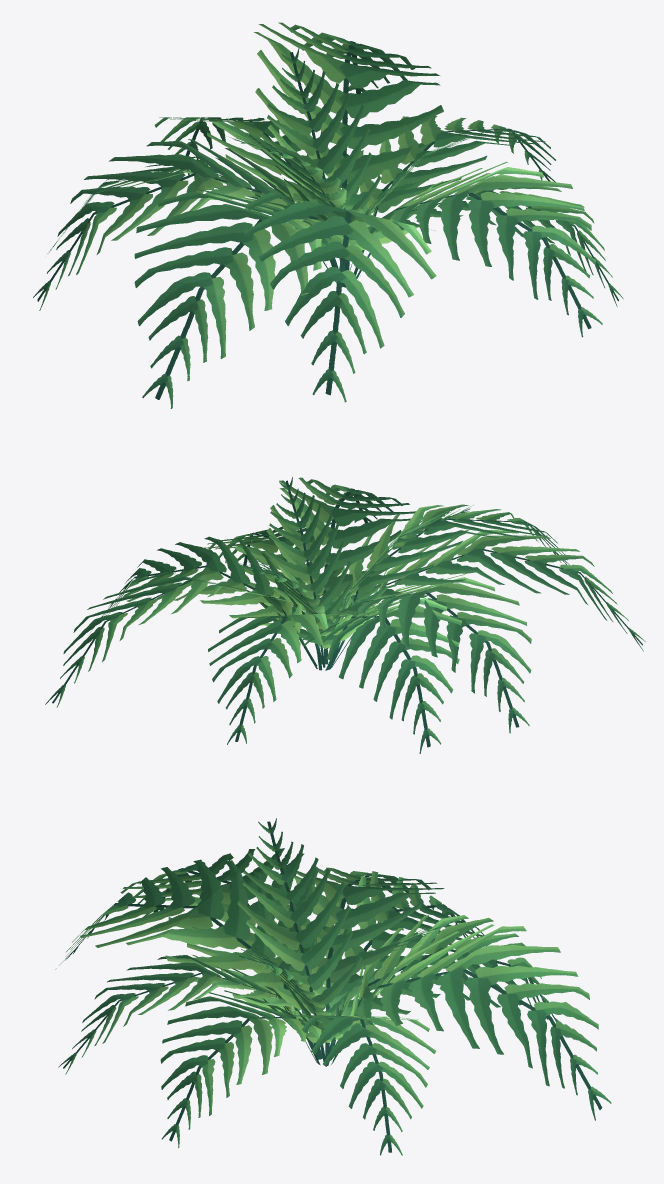
The model's file is shrub_fern.glb.
3 views of the same model, one above another, from view 1: azimuth 30°, elevation 25°; view 2: azimuth 150°, elevation 25°; view 3: azimuth 270°, elevation 25° (orthographic). The views are drawn at different scales.
Parts seen in each view (by area): view 1: shrub_fern; view 2: shrub_fern; view 3: shrub_fern.
Part boxes in pixels (left/top/right/bottom): shrub_fern: left=33, top=22, right=623, bottom=408; shrub_fern: left=45, top=477, right=645, bottom=753; shrub_fern: left=55, top=818, right=611, bottom=1155.
Bounding box in the file's own units: 2.21 × 0.8243 × 2.33.
Materials: 1 (1 with a texture image).
